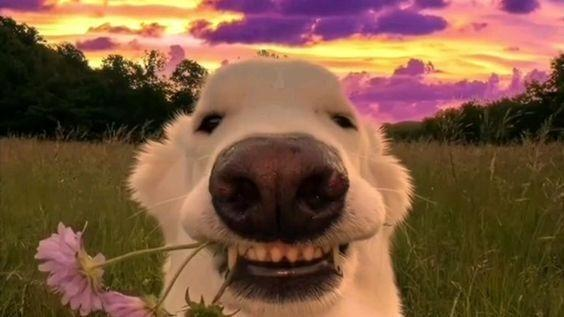adult_dog: (125, 55, 414, 317)
